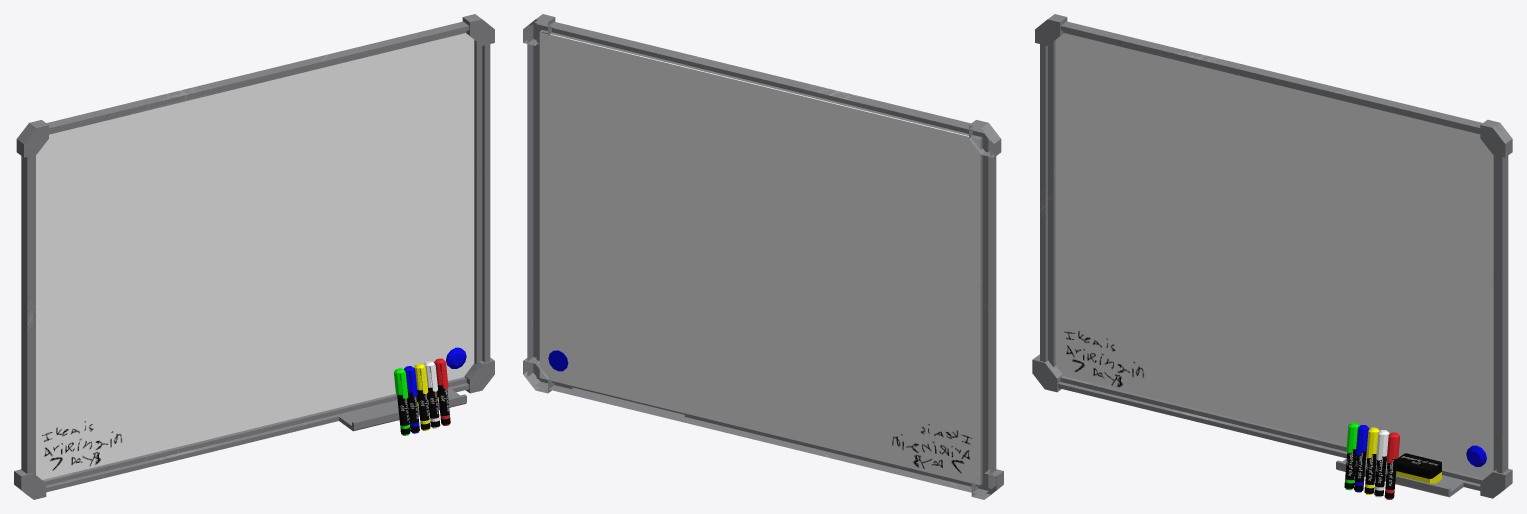
The model's file is whitebord.fbx.
3 renders of one model, left to right at view 1: azimuth 30°, elevation 25°; view 2: azimuth 150°, elevation 25°; view 3: azimuth 330°, elevation 25°, orthographic.
Visible parts, largest first — view 1: white_bord_bace, frame, marker3, marker, marker2, marker1, marker4; view 2: white_bord_bace, frame; view 3: white_bord_bace, frame, whie_bord1, marker, marker1, marker4, marker2, marker3.
Boxes of the visible parts, bbox=[...] form: white_bord_bace: bbox=[36, 33, 474, 479]; frame: bbox=[14, 14, 494, 499]; marker3: bbox=[394, 368, 410, 435]; marker: bbox=[434, 358, 450, 425]; marker2: bbox=[414, 363, 430, 430]; marker1: bbox=[424, 361, 440, 428]; marker4: bbox=[404, 366, 419, 433]; white_bord_bace: bbox=[539, 32, 980, 485]; frame: bbox=[523, 14, 1003, 499]; white_bord_bace: bbox=[1055, 33, 1493, 478]; frame: bbox=[1032, 14, 1512, 498]; whie_bord1: bbox=[1396, 453, 1441, 483]; marker: bbox=[1384, 432, 1400, 499]; marker1: bbox=[1374, 430, 1389, 497]; marker4: bbox=[1354, 425, 1369, 492]; marker2: bbox=[1364, 427, 1379, 494]; marker3: bbox=[1344, 422, 1359, 490].
Bounding box in the file's own units: 6.14 × 4.6 × 0.9711.
3 materials, 3 textured.
